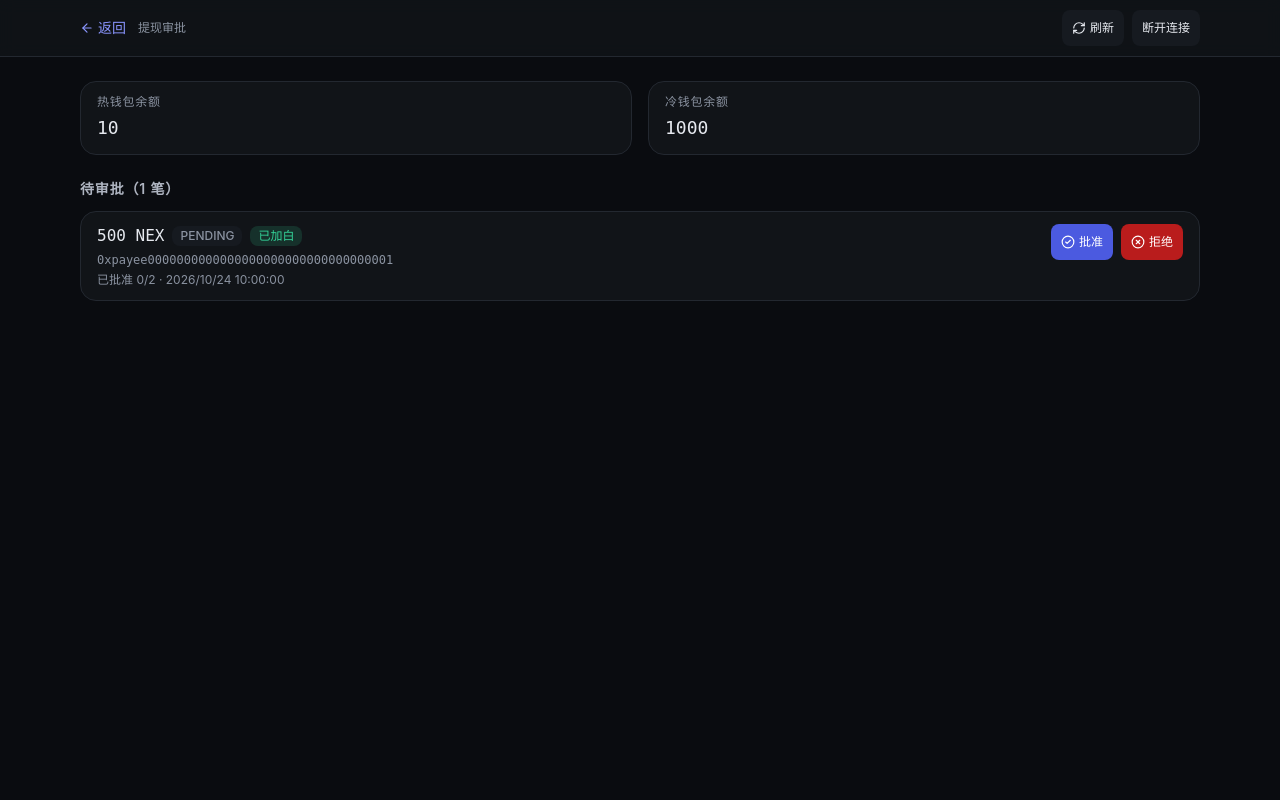
Test case: 审批动作 › 拒绝：必须填原因，空原因时确认按钮禁用
Click the button "拒绝" at (1152, 242), box left=1121, top=224, right=1183, bottom=260
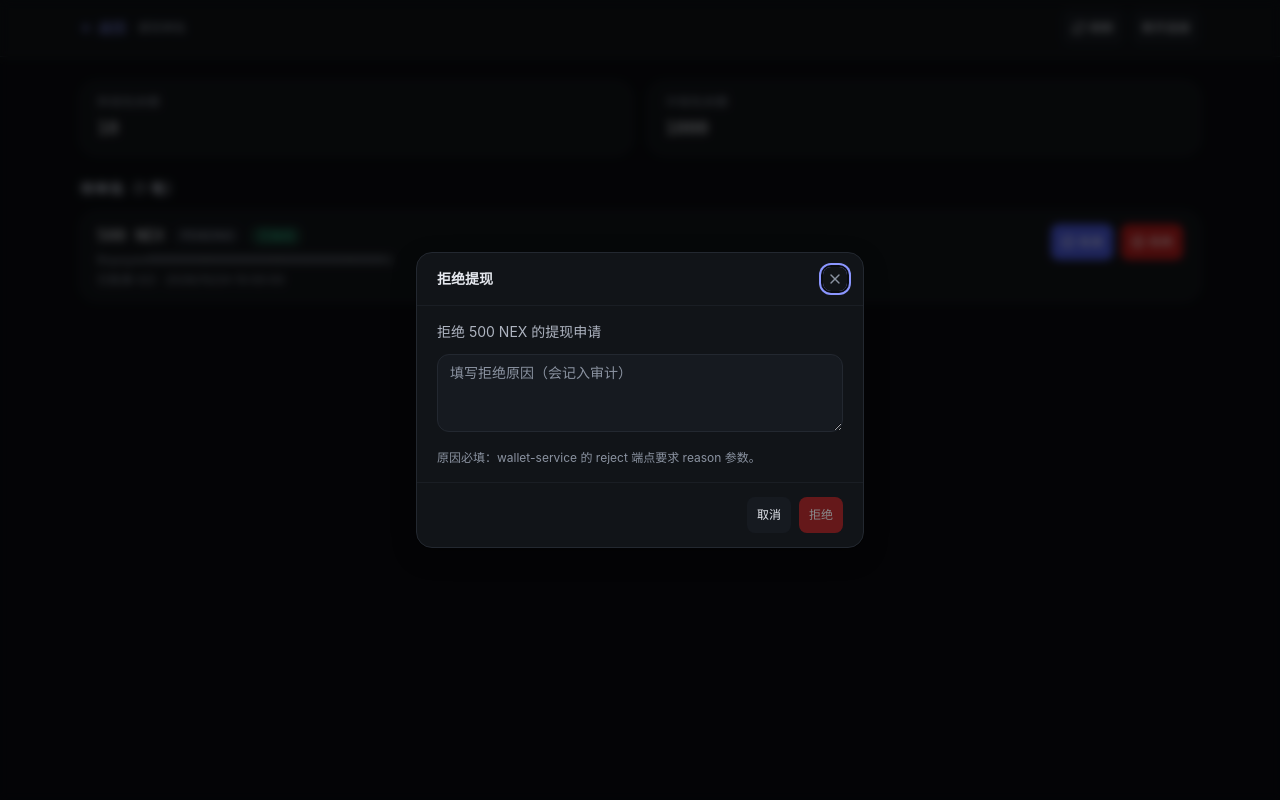
Now the heading "拒绝提现" is shown, box left=437, top=269, right=493, bottom=289
Now the button "拒绝" is disabled, box left=799, top=497, right=843, bottom=533
Type "疑似欺诈" into the text box with placeholder "填写拒绝原因（会记入审计）" at (640, 393), box left=437, top=354, right=843, bottom=432
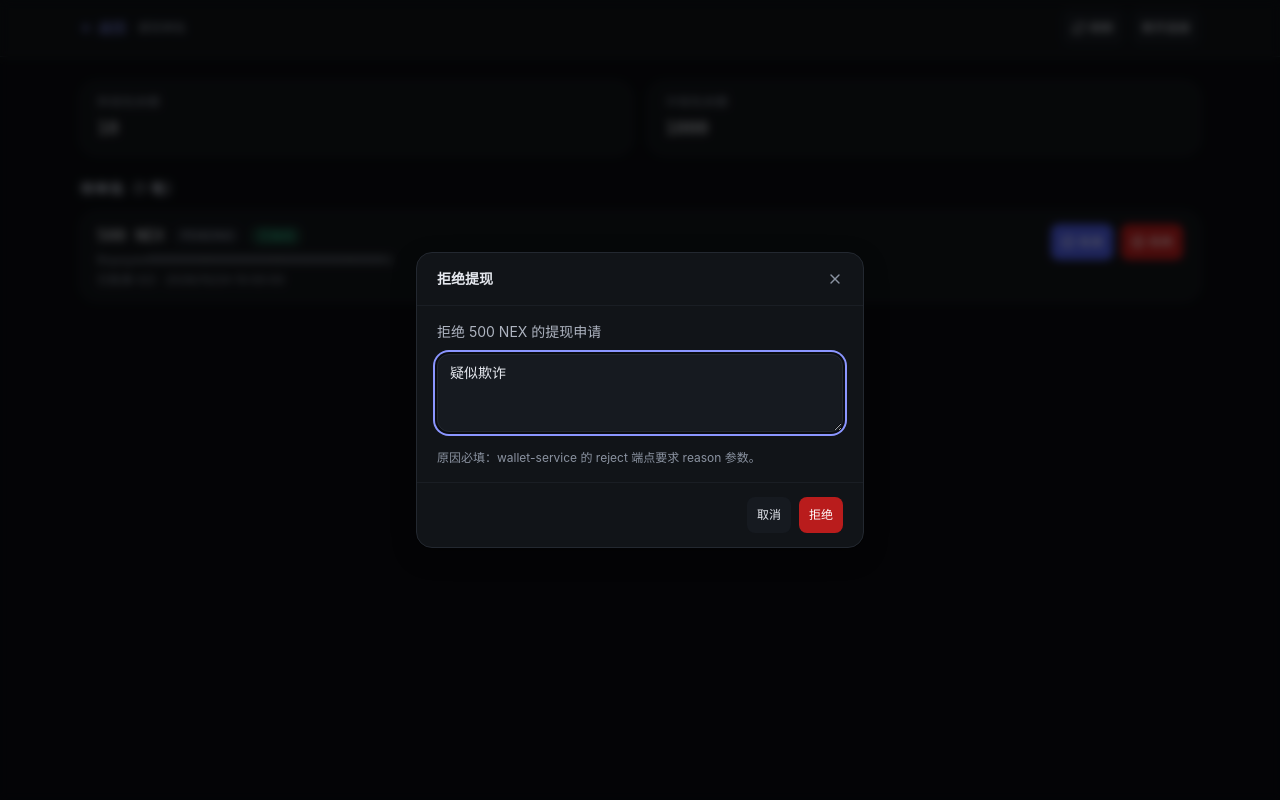
Now the button "拒绝" is enabled
Click the button "拒绝" at (821, 515), box left=799, top=497, right=843, bottom=533
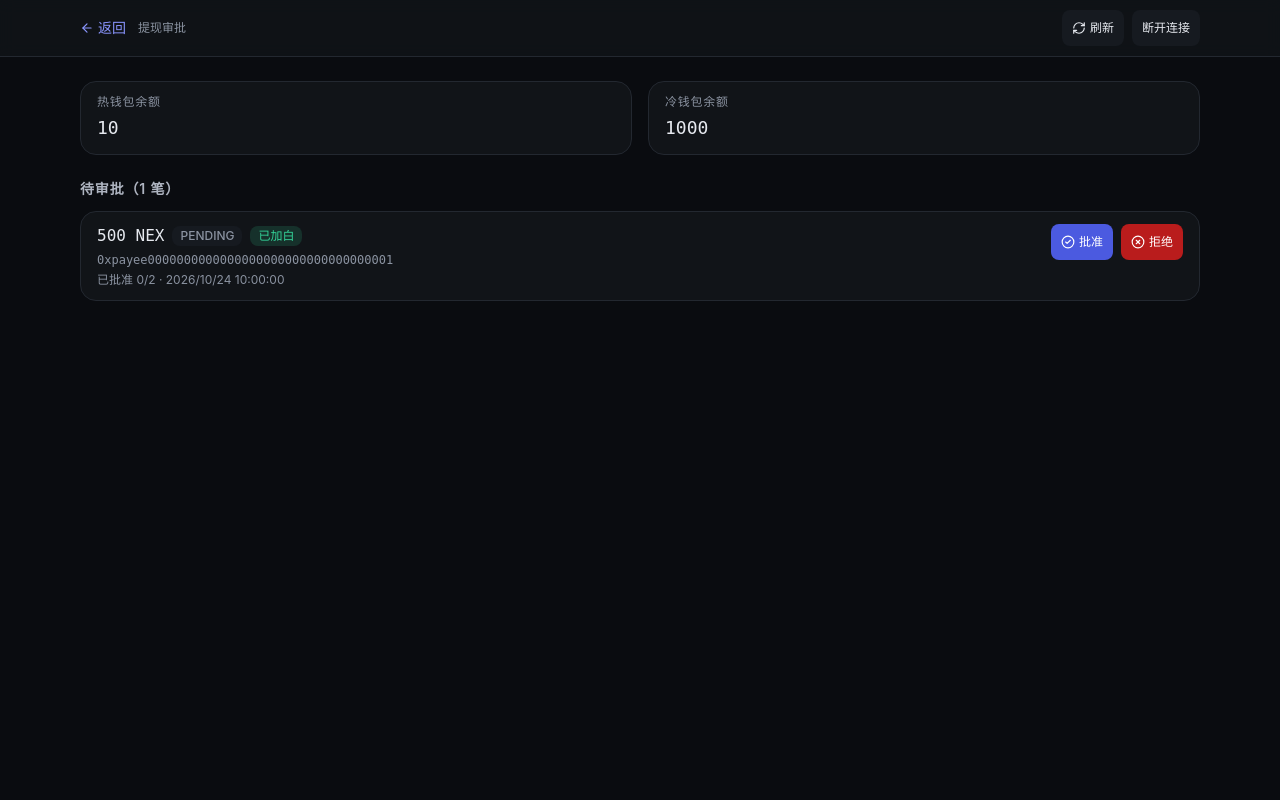
Now the heading "拒绝提现" is gone
